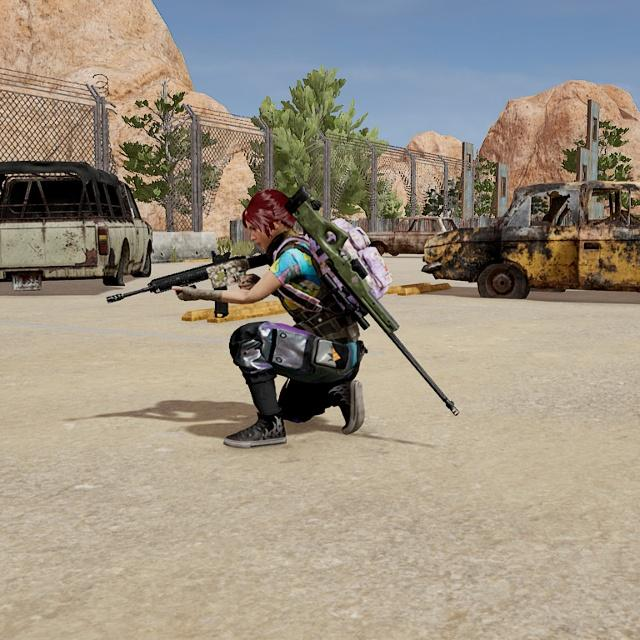head: (239, 188, 296, 254)
people: (221, 186, 370, 451)
